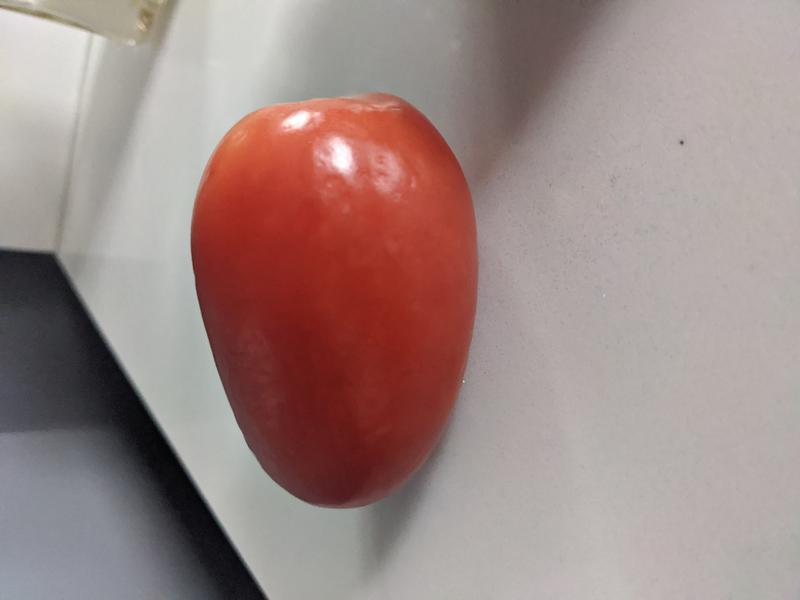tomato: (189, 92, 480, 509)
